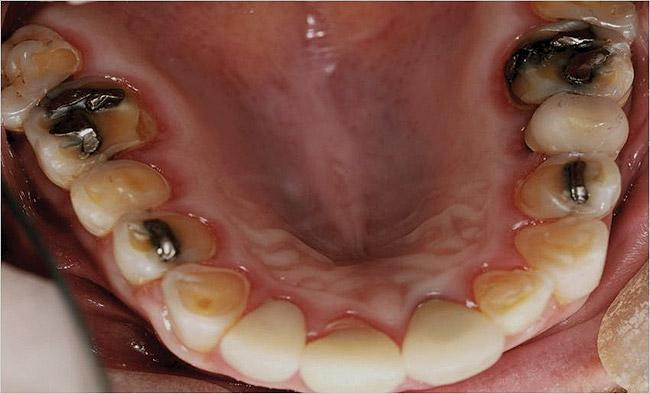LL1BC_decay: (507, 149, 625, 219)
LL1M_decay: (501, 25, 637, 107)
LL2BC_healthy: (518, 89, 634, 165)
LL2M_decay: (529, 2, 646, 39)
LLCI_healthy: (403, 293, 504, 382)
LLC_healthy: (512, 218, 610, 307)
LLLI_healthy: (471, 260, 552, 334)
LR1BC_decay: (113, 208, 217, 287)
LR1M_decay: (26, 78, 159, 188)
LR2BC_decay: (70, 160, 174, 236)
LR2M_decay: (1, 17, 90, 131)
LRCI_healthy: (301, 316, 404, 394)
LRC_decay: (163, 264, 253, 353)
LRLI_healthy: (216, 295, 309, 381)
